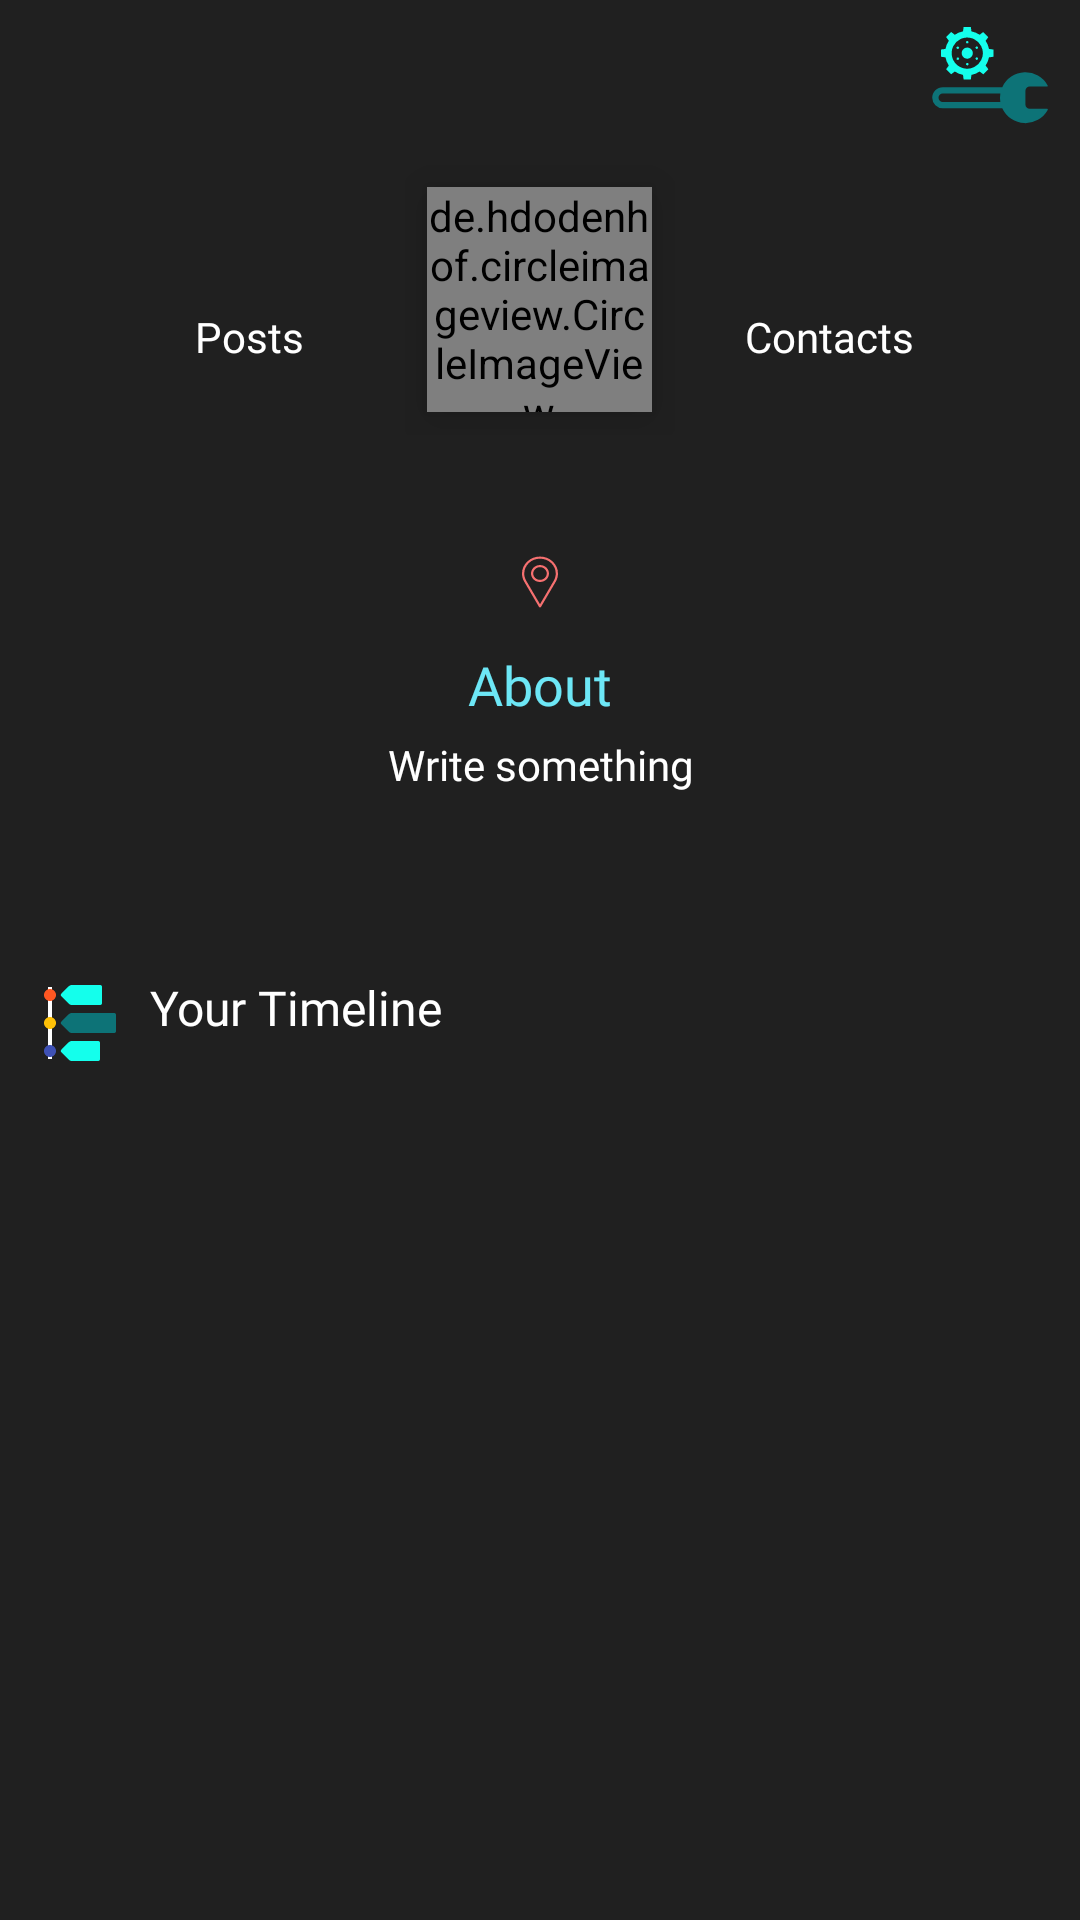

Icons on this 1080px x 1920px Android screen, each with its box as (x1, y1, x2, y2):
settings: (932, 27, 1048, 123)
